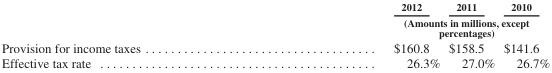table: (0, 0, 549, 70)
table column: (0, 0, 266, 70), (266, 0, 443, 70), (443, 0, 498, 70), (498, 0, 549, 70)
table column header: (0, 0, 549, 39)
table row: (0, 14, 549, 39), (0, 39, 549, 55), (0, 55, 549, 70), (0, 0, 549, 14)
table spanning cell: (266, 14, 549, 39)
